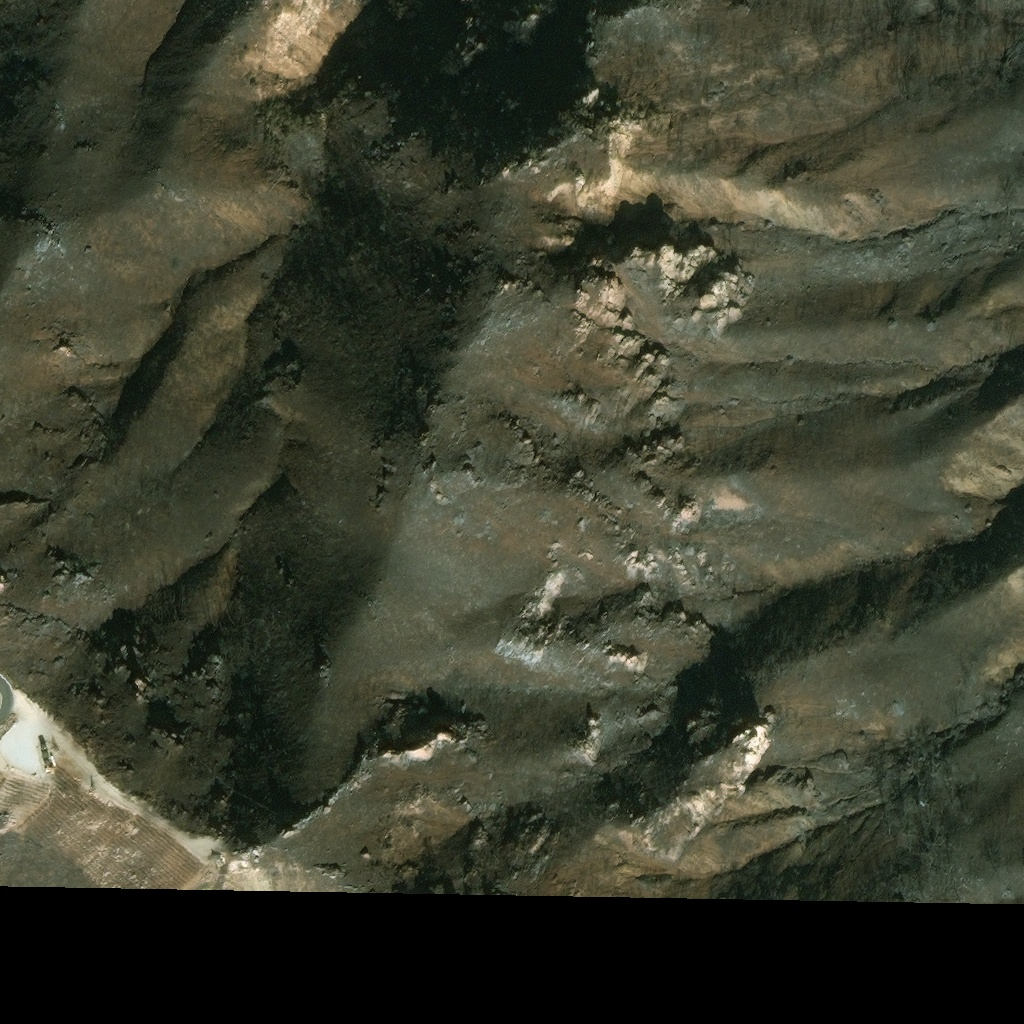4 un-classified: (42, 744, 52, 767), (51, 754, 57, 765)
